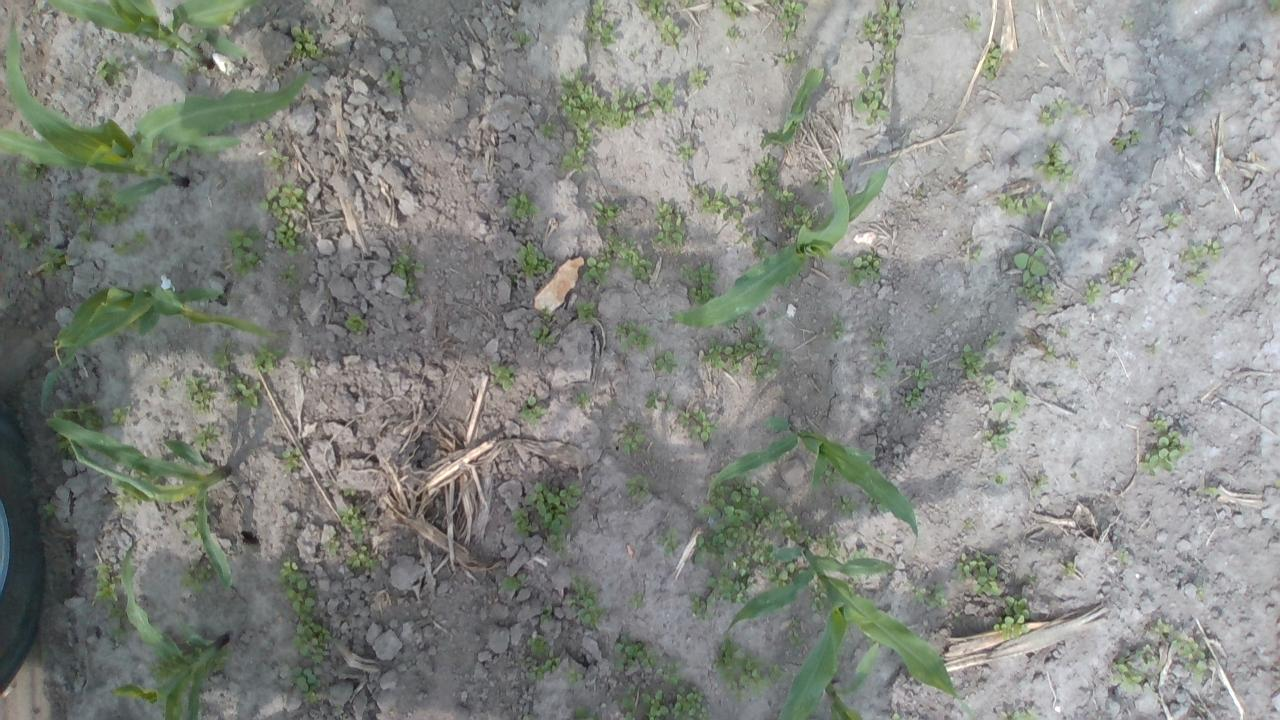Maize: (0, 13, 308, 204), (668, 148, 906, 330), (726, 545, 971, 720), (36, 408, 237, 582), (38, 280, 276, 407), (714, 412, 923, 550), (108, 547, 230, 720), (47, 0, 253, 68), (752, 63, 823, 150), (821, 639, 880, 720)
Weeds: (692, 474, 772, 566), (714, 634, 770, 704), (66, 176, 135, 226), (1137, 419, 1191, 478), (557, 68, 608, 130), (264, 182, 306, 256), (1011, 246, 1057, 312), (524, 481, 582, 532), (854, 58, 894, 126), (1030, 140, 1074, 194), (858, 0, 902, 53), (277, 556, 317, 614), (606, 234, 652, 282), (567, 572, 606, 628), (227, 224, 266, 279), (706, 566, 756, 606), (652, 201, 686, 256), (956, 552, 1000, 594), (294, 614, 330, 664), (991, 593, 1030, 637), (52, 400, 104, 432), (614, 632, 657, 670), (676, 408, 719, 444), (608, 88, 644, 130), (992, 192, 1050, 218), (846, 250, 883, 288), (226, 370, 261, 410), (336, 503, 371, 543), (1110, 656, 1146, 694), (615, 320, 655, 354), (562, 130, 594, 172), (518, 241, 555, 277), (290, 666, 324, 705), (184, 374, 217, 414), (5, 214, 42, 249), (672, 685, 708, 720), (91, 561, 120, 603), (582, 0, 606, 50), (520, 651, 560, 681), (957, 342, 987, 382), (290, 25, 324, 60), (180, 564, 216, 596), (778, 204, 819, 232), (1179, 238, 1223, 264), (252, 342, 285, 375), (1037, 97, 1069, 131), (646, 82, 676, 118), (751, 154, 777, 195), (147, 656, 181, 687), (690, 185, 726, 214), (156, 142, 190, 172), (991, 389, 1026, 418), (1170, 631, 1205, 660), (94, 54, 130, 82), (978, 41, 1002, 82), (700, 338, 731, 369), (752, 350, 784, 380), (507, 192, 540, 221), (42, 245, 70, 279), (762, 560, 795, 588), (1108, 256, 1138, 286), (680, 261, 719, 284), (806, 530, 838, 558), (518, 395, 546, 426), (906, 359, 934, 390), (344, 546, 380, 570), (488, 361, 516, 391), (210, 338, 237, 369), (618, 423, 644, 455), (658, 14, 682, 48), (642, 689, 668, 720), (743, 322, 768, 354), (391, 243, 412, 279), (194, 424, 221, 452), (512, 506, 536, 537), (16, 160, 48, 183), (584, 254, 610, 282), (382, 65, 405, 96), (808, 579, 828, 614), (54, 432, 82, 457), (594, 202, 620, 228), (115, 487, 142, 512), (635, 0, 667, 21), (624, 474, 652, 498), (618, 684, 636, 720), (716, 0, 748, 20), (820, 461, 844, 487), (1135, 644, 1159, 670), (782, 515, 805, 542), (657, 528, 680, 555), (776, 0, 804, 22), (728, 340, 746, 374), (402, 276, 422, 306), (524, 634, 550, 657), (825, 314, 846, 342), (180, 511, 200, 540), (834, 493, 858, 517), (656, 662, 682, 684), (548, 532, 570, 558), (1082, 279, 1104, 305), (574, 299, 598, 322), (1185, 660, 1208, 684), (344, 312, 368, 335), (926, 584, 948, 609), (1184, 265, 1210, 286), (281, 447, 302, 473), (689, 284, 716, 304), (134, 468, 164, 486), (180, 59, 210, 77), (691, 594, 710, 622), (787, 618, 806, 646), (1002, 706, 1040, 720), (904, 581, 926, 605), (265, 150, 290, 171), (530, 326, 556, 346), (772, 500, 788, 532), (655, 351, 678, 373), (722, 195, 742, 220), (211, 649, 231, 674), (982, 431, 1008, 450), (674, 140, 695, 163), (322, 530, 340, 556), (104, 604, 130, 622), (872, 356, 894, 377), (686, 66, 706, 89), (1162, 212, 1186, 231), (501, 574, 526, 592), (904, 387, 924, 409), (109, 405, 131, 425), (76, 228, 98, 248), (106, 624, 130, 642), (961, 12, 982, 32), (279, 263, 299, 284), (112, 238, 134, 257), (131, 229, 154, 247), (600, 21, 616, 46), (1030, 473, 1048, 495), (868, 496, 891, 513), (752, 235, 768, 259), (1150, 618, 1174, 634), (573, 390, 592, 410), (564, 667, 584, 686), (184, 638, 204, 656), (812, 170, 828, 192), (768, 664, 786, 683), (984, 330, 1002, 349), (511, 28, 532, 44), (575, 705, 597, 720), (831, 153, 849, 171), (644, 390, 660, 410), (774, 188, 796, 202), (1070, 104, 1092, 118), (539, 121, 558, 137), (628, 591, 644, 610), (781, 22, 796, 42), (1144, 342, 1160, 360), (1120, 16, 1138, 32), (780, 52, 800, 66), (1112, 138, 1129, 154), (1050, 227, 1067, 243), (736, 224, 750, 243), (1064, 560, 1078, 578), (848, 548, 868, 560), (982, 375, 994, 394), (540, 604, 552, 622), (1268, 0, 1280, 18), (540, 306, 553, 322), (994, 472, 1010, 485), (262, 128, 274, 145), (1194, 580, 1204, 600), (968, 248, 982, 262), (1129, 130, 1144, 143), (724, 27, 740, 39), (871, 337, 887, 349), (926, 302, 942, 314), (44, 503, 58, 516), (1044, 344, 1055, 360), (297, 358, 310, 371), (160, 376, 173, 389), (1118, 550, 1130, 564), (1202, 486, 1218, 496), (413, 261, 425, 274), (664, 393, 672, 412), (1066, 356, 1078, 368), (839, 257, 850, 269), (1005, 422, 1016, 433), (1196, 305, 1207, 316), (343, 487, 356, 496), (964, 519, 974, 530), (749, 202, 760, 212), (1058, 328, 1070, 337), (1202, 90, 1212, 100), (1188, 125, 1198, 135), (890, 711, 901, 720), (874, 388, 884, 397), (1025, 572, 1035, 581), (630, 49, 639, 57), (916, 187, 924, 195), (878, 533, 886, 540), (1275, 477, 1280, 487), (774, 0, 782, 6), (608, 61, 615, 67), (523, 716, 532, 720), (686, 0, 694, 4)
